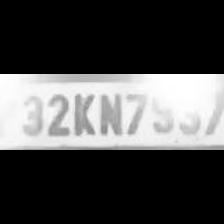2: (43, 91, 70, 136)
3: (17, 90, 43, 136)
7: (120, 90, 146, 134)
K: (72, 90, 94, 138)
N: (96, 90, 122, 136)
